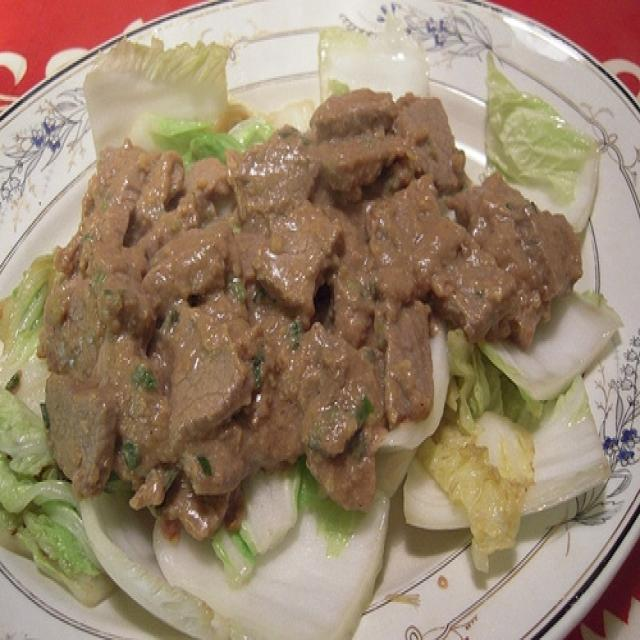牛肉菜式: (22, 55, 598, 590)
